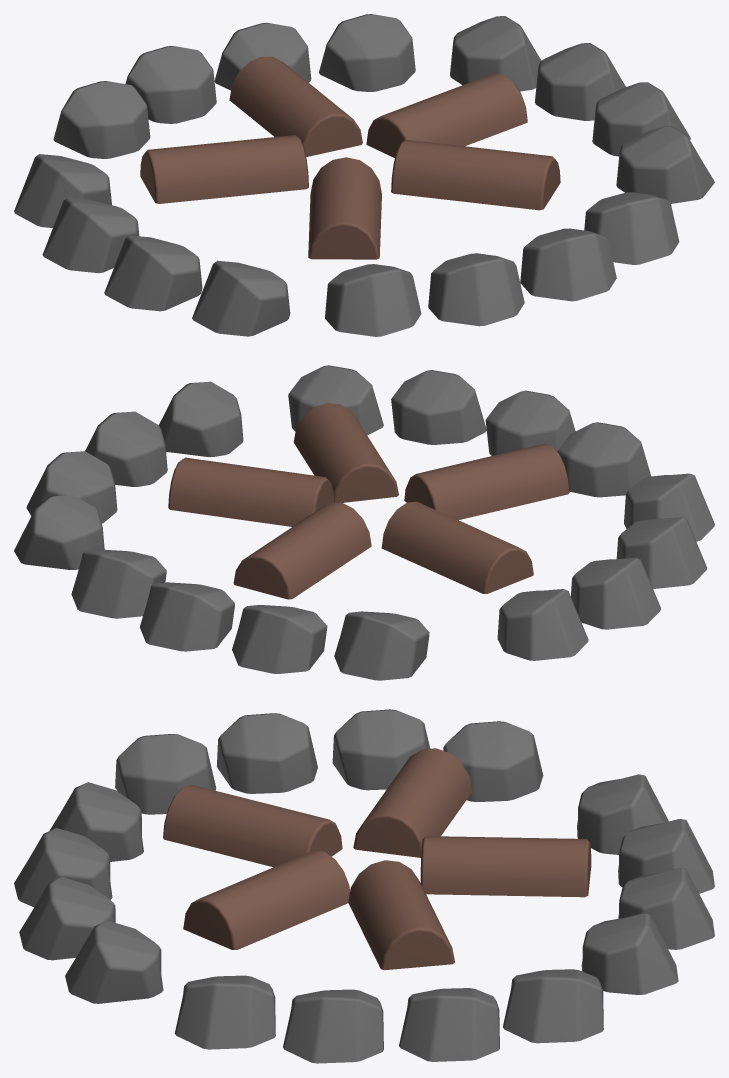
Rendered from Campfire.fbx.
The picture shows the model from 3 angles, top to bottom: view 1: azimuth 30°, elevation 25°; view 2: azimuth 150°, elevation 25°; view 3: azimuth 270°, elevation 25°; orthographic projection. The views are drawn at different scales.
Parts seen in each view (by area): view 1: Campfire; view 2: Campfire; view 3: Campfire.
Boxes of the visible parts, bbox=[...] form: Campfire: bbox=[14, 14, 714, 336]; Campfire: bbox=[14, 365, 714, 680]; Campfire: bbox=[14, 709, 714, 1063].
Size of the model in its own units: 2.59 by 0.2478 by 2.43.
